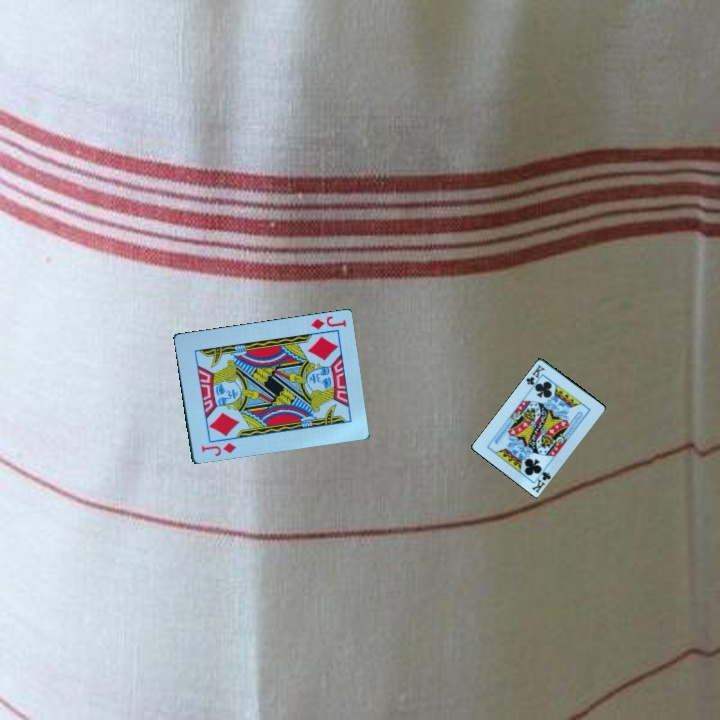Jd: (307, 312, 349, 333), (198, 440, 239, 459)
Kc: (528, 464, 554, 496), (522, 361, 548, 388)
